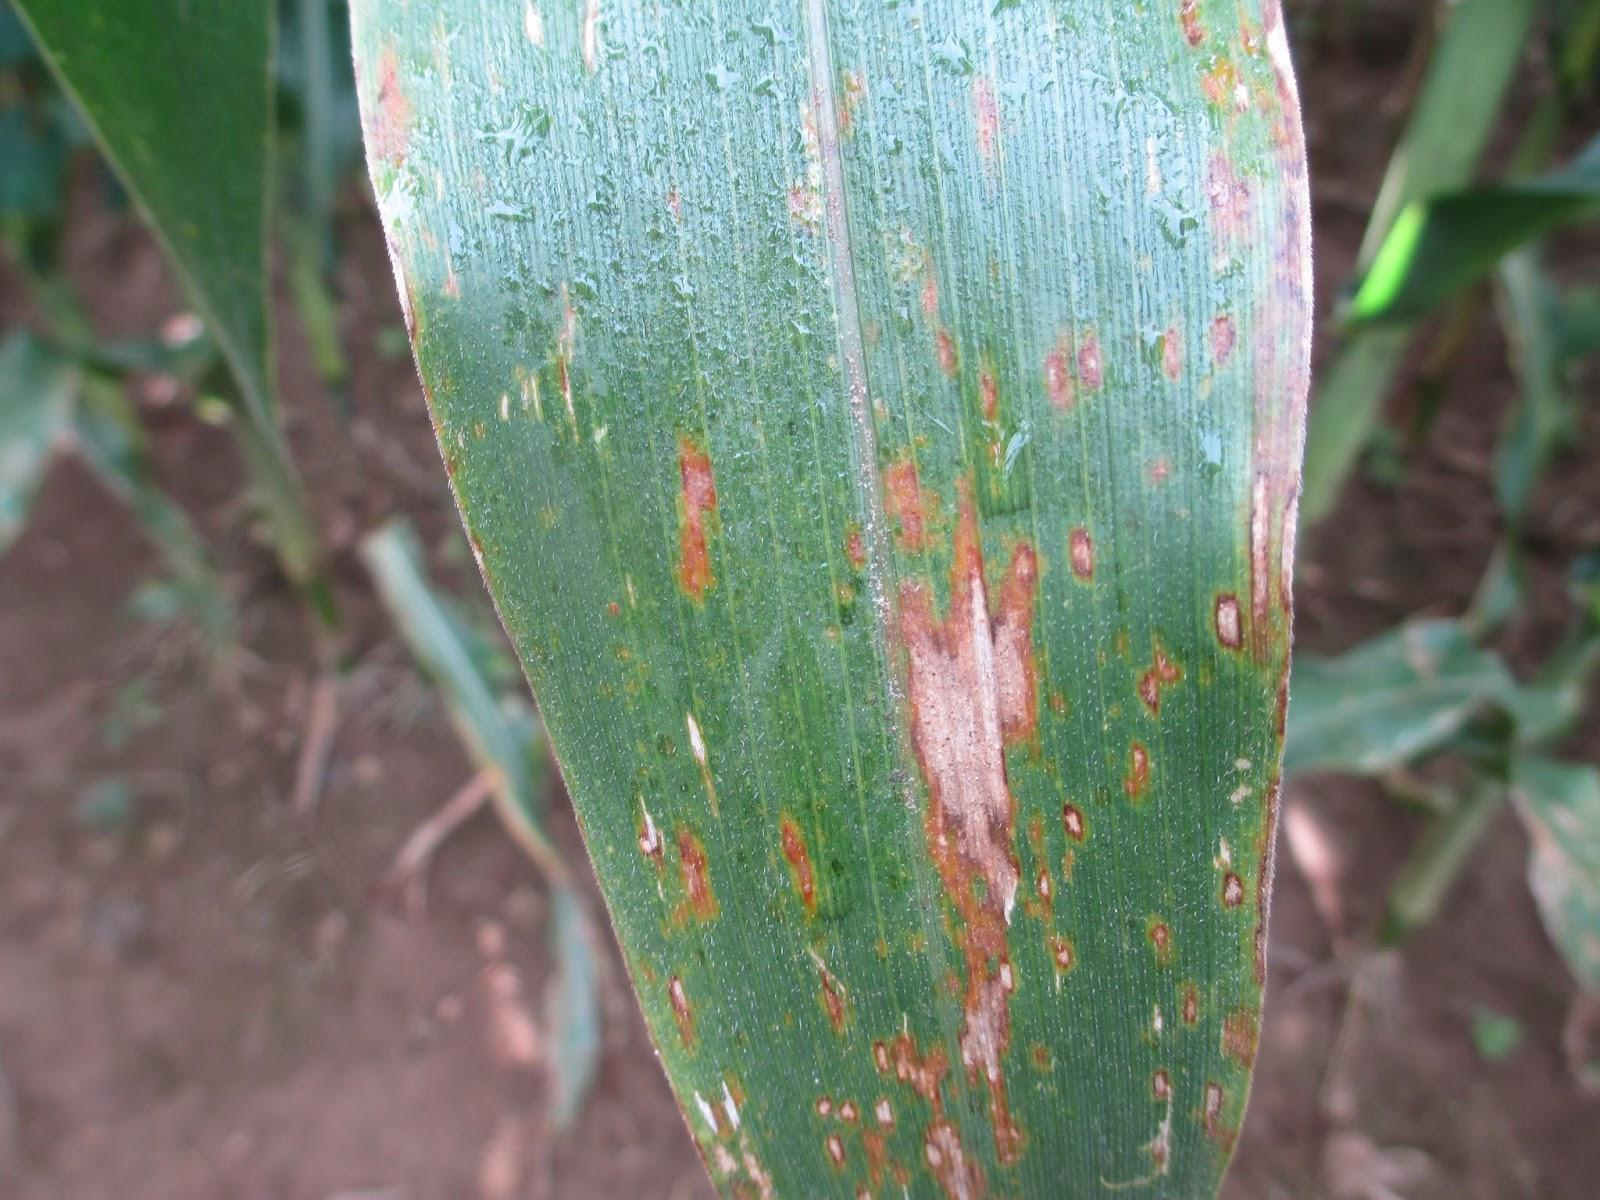Corn_Blight: (810, 424, 1135, 1195), (1164, 16, 1319, 1174), (590, 736, 772, 1192), (626, 397, 750, 645), (346, 16, 464, 263)
